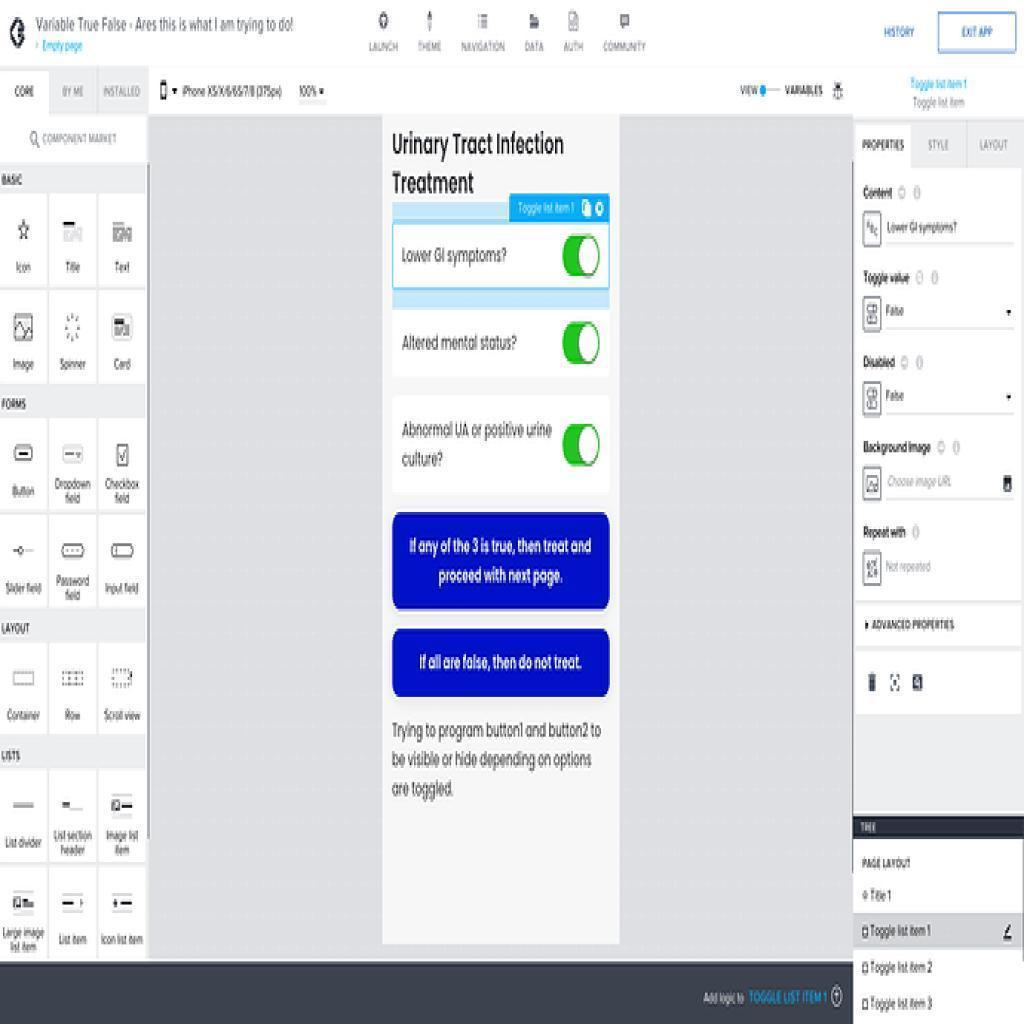button: (937, 10, 1016, 53)
icon: (563, 7, 585, 37), (613, 8, 636, 35), (376, 6, 394, 33), (420, 10, 439, 33), (476, 6, 492, 32), (526, 8, 540, 35)
switch: (563, 321, 601, 365), (562, 235, 600, 277), (563, 424, 600, 467)
